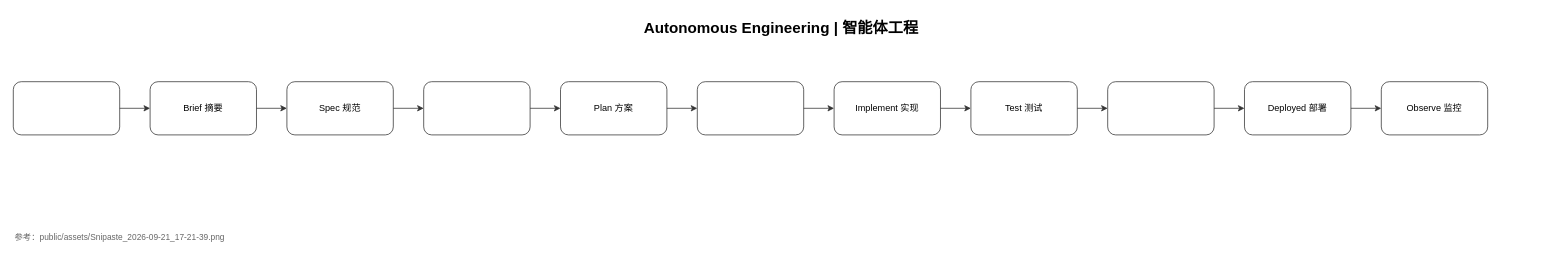
This 1562x257 diagram has some shape labels left out. Here are the shapes that lost their labels. From the top down, the centre of each, then its label:
point 66,108: Evidence 证据
point 476,108: Architecture 架构
point 750,108: Tasks 任务
point 1160,108: Review 审查
